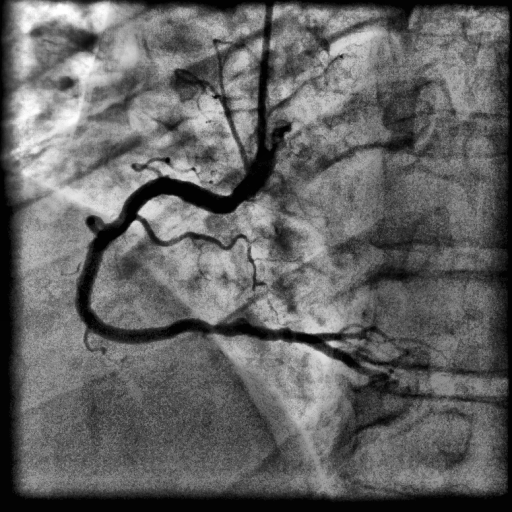pborca: (311, 327, 393, 343)
pda: (287, 332, 386, 379)
rca: (76, 177, 290, 344)
